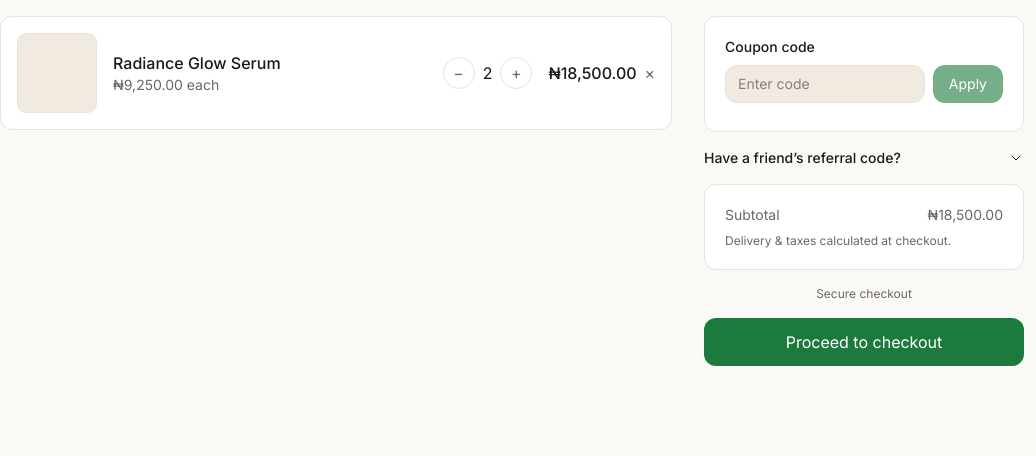
Test case: CartView › drops back to subtotal-only after a qty change following a successful coupon apply
Step 1. Type "SAVE5" into the field labelled "Coupon code" → [825, 84], box [725,65,925,103]
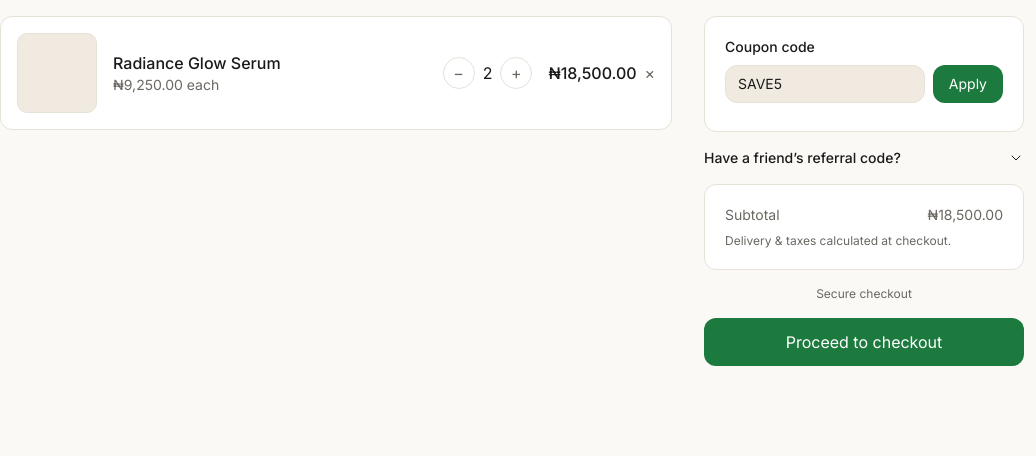
Step 2. Click the button "Apply" → [968, 84], box [933,65,1003,103]
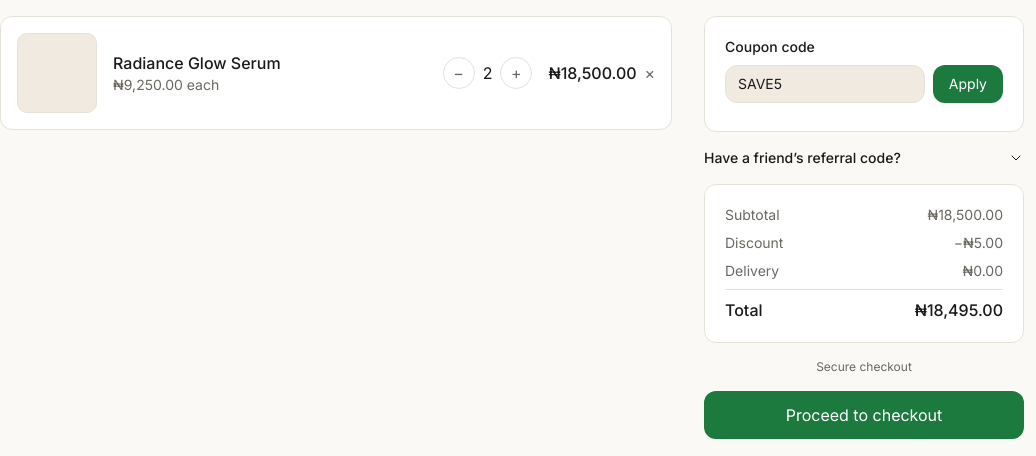
Expected: the text "Discount" is shown, [725,233,783,253]
Step 3. Click the button named "increase quantity" → [516, 73], box [500,57,532,89]
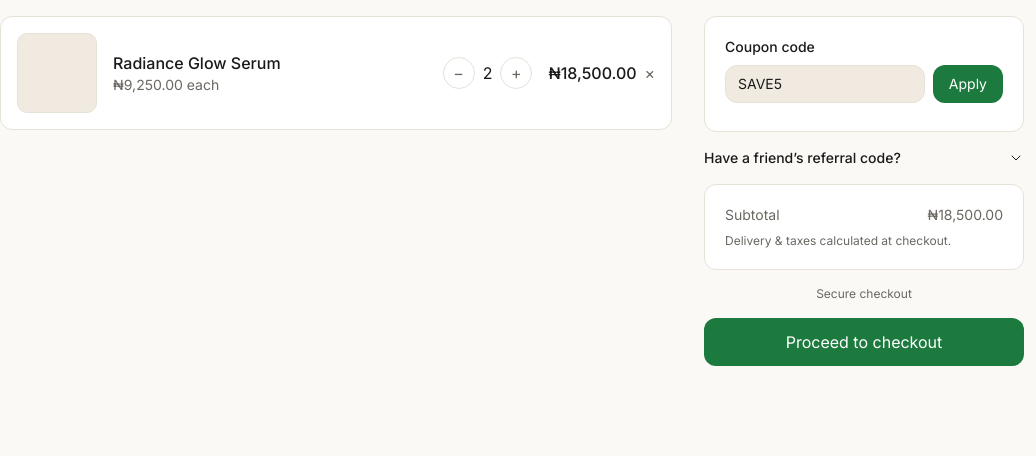
Expected: the text "Discount" is gone
Expected: the text "Delivery & taxes calculated at checkout." is shown, [725,233,951,248]
